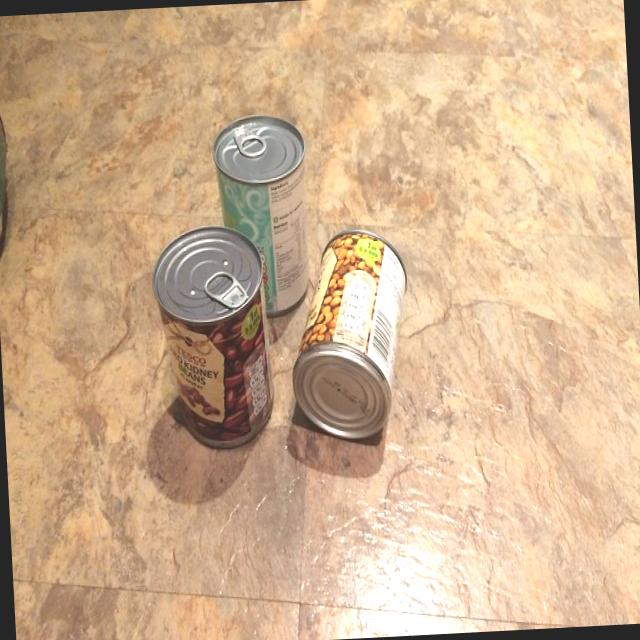Recycle: (284, 225, 418, 445), (149, 220, 276, 452), (211, 109, 313, 321)
